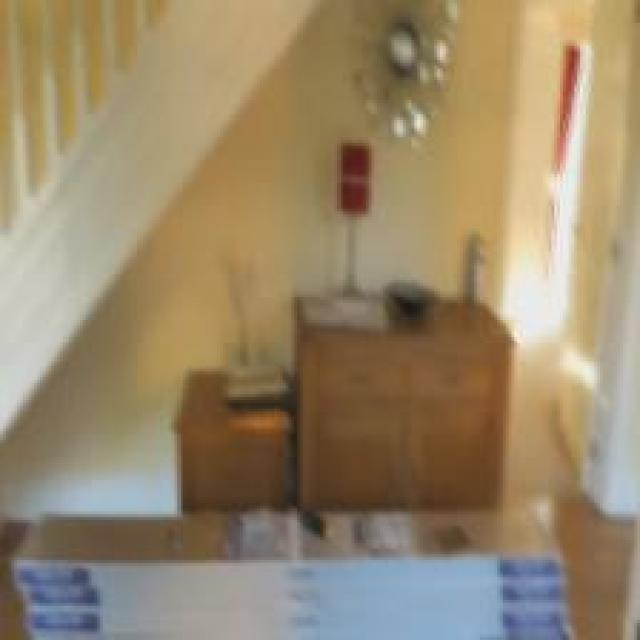other: (334, 130, 386, 227), (555, 30, 576, 176)
